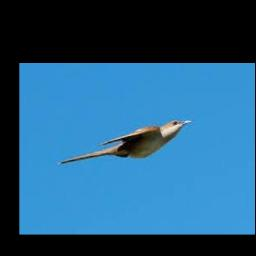Cuckoo: (59, 119, 192, 165)
